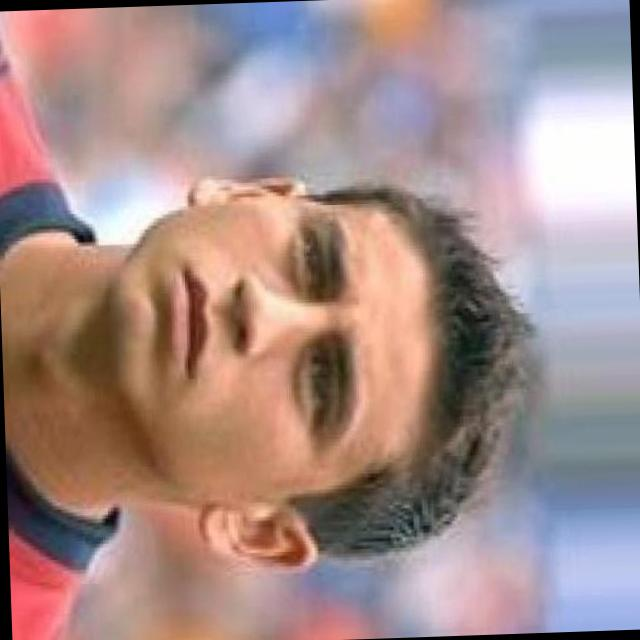bareface: (96, 187, 538, 516)
